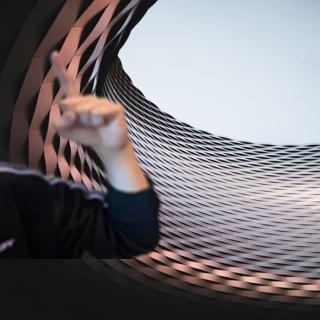IRRITATED: (45, 50, 131, 153)
